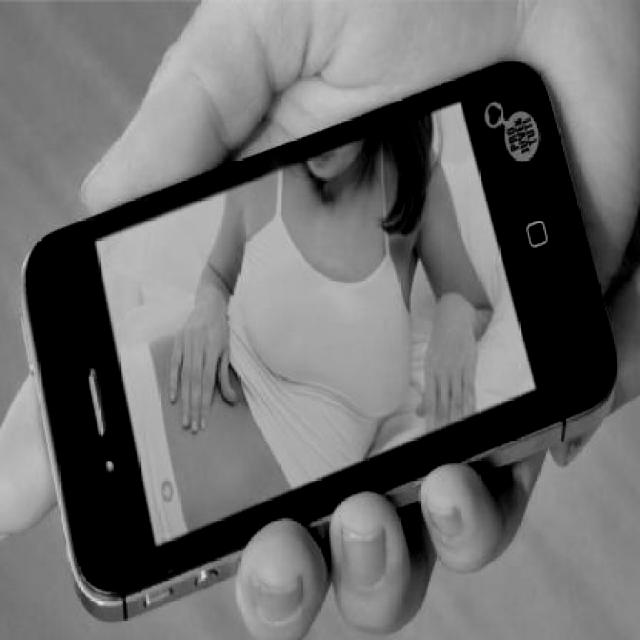fake: (16, 56, 622, 626)
